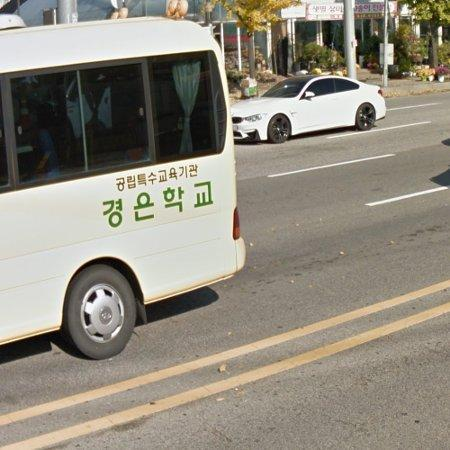buses: (0, 17, 246, 360)
